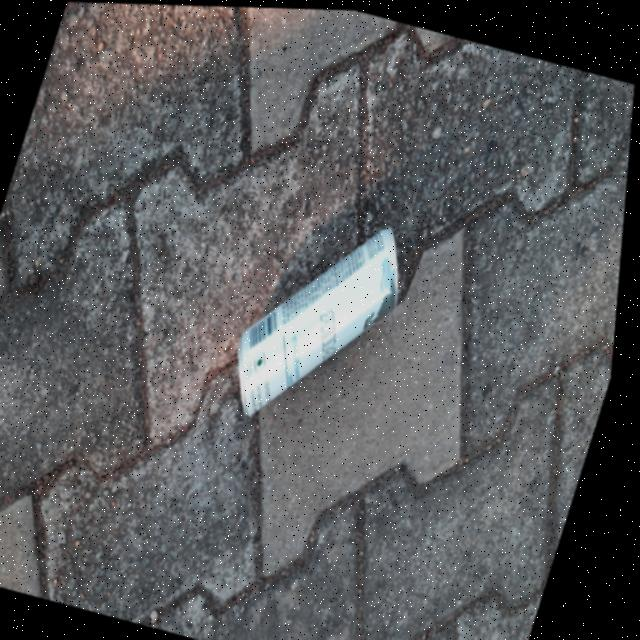Redbull Summer Edition: (221, 178, 427, 458)
